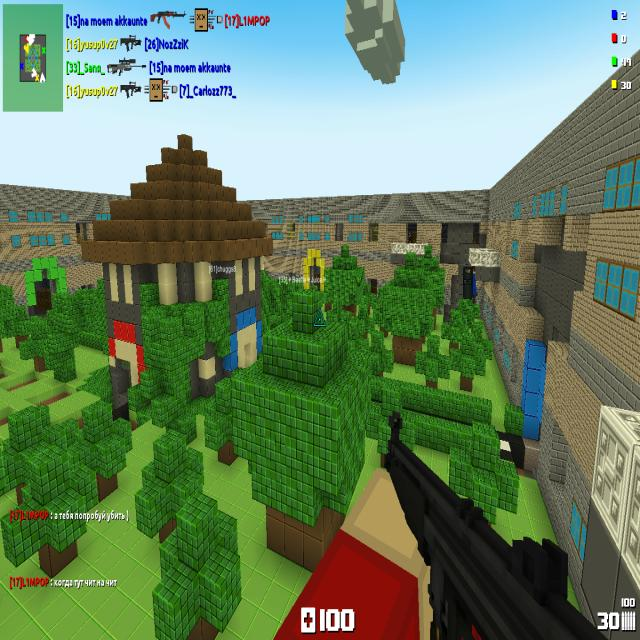enemy: (468, 266, 478, 297), (408, 232, 412, 243)
